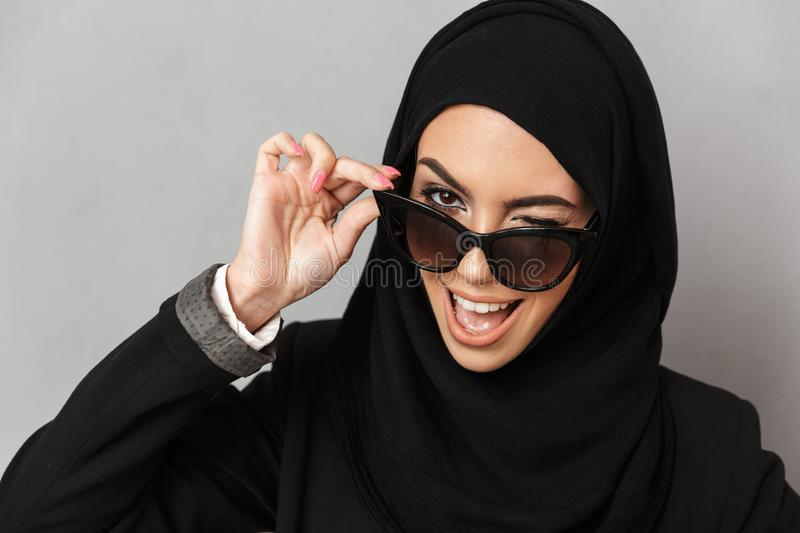No Mask: (368, 73, 621, 403)
